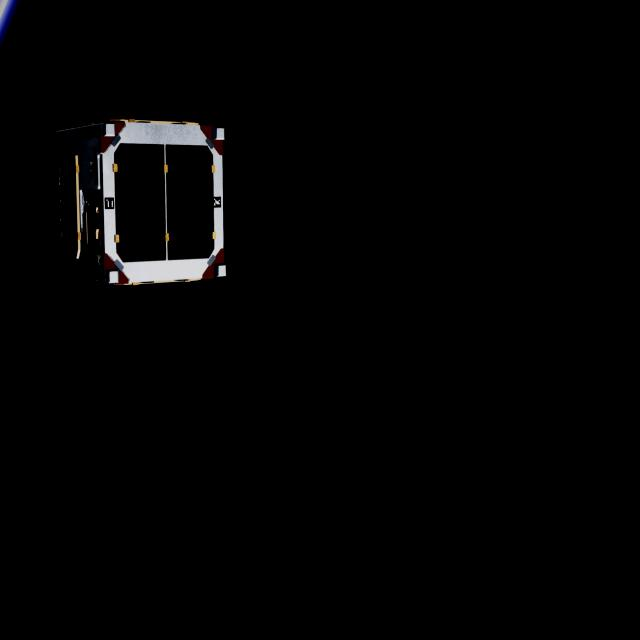medium_debris: (46, 114, 243, 297)
